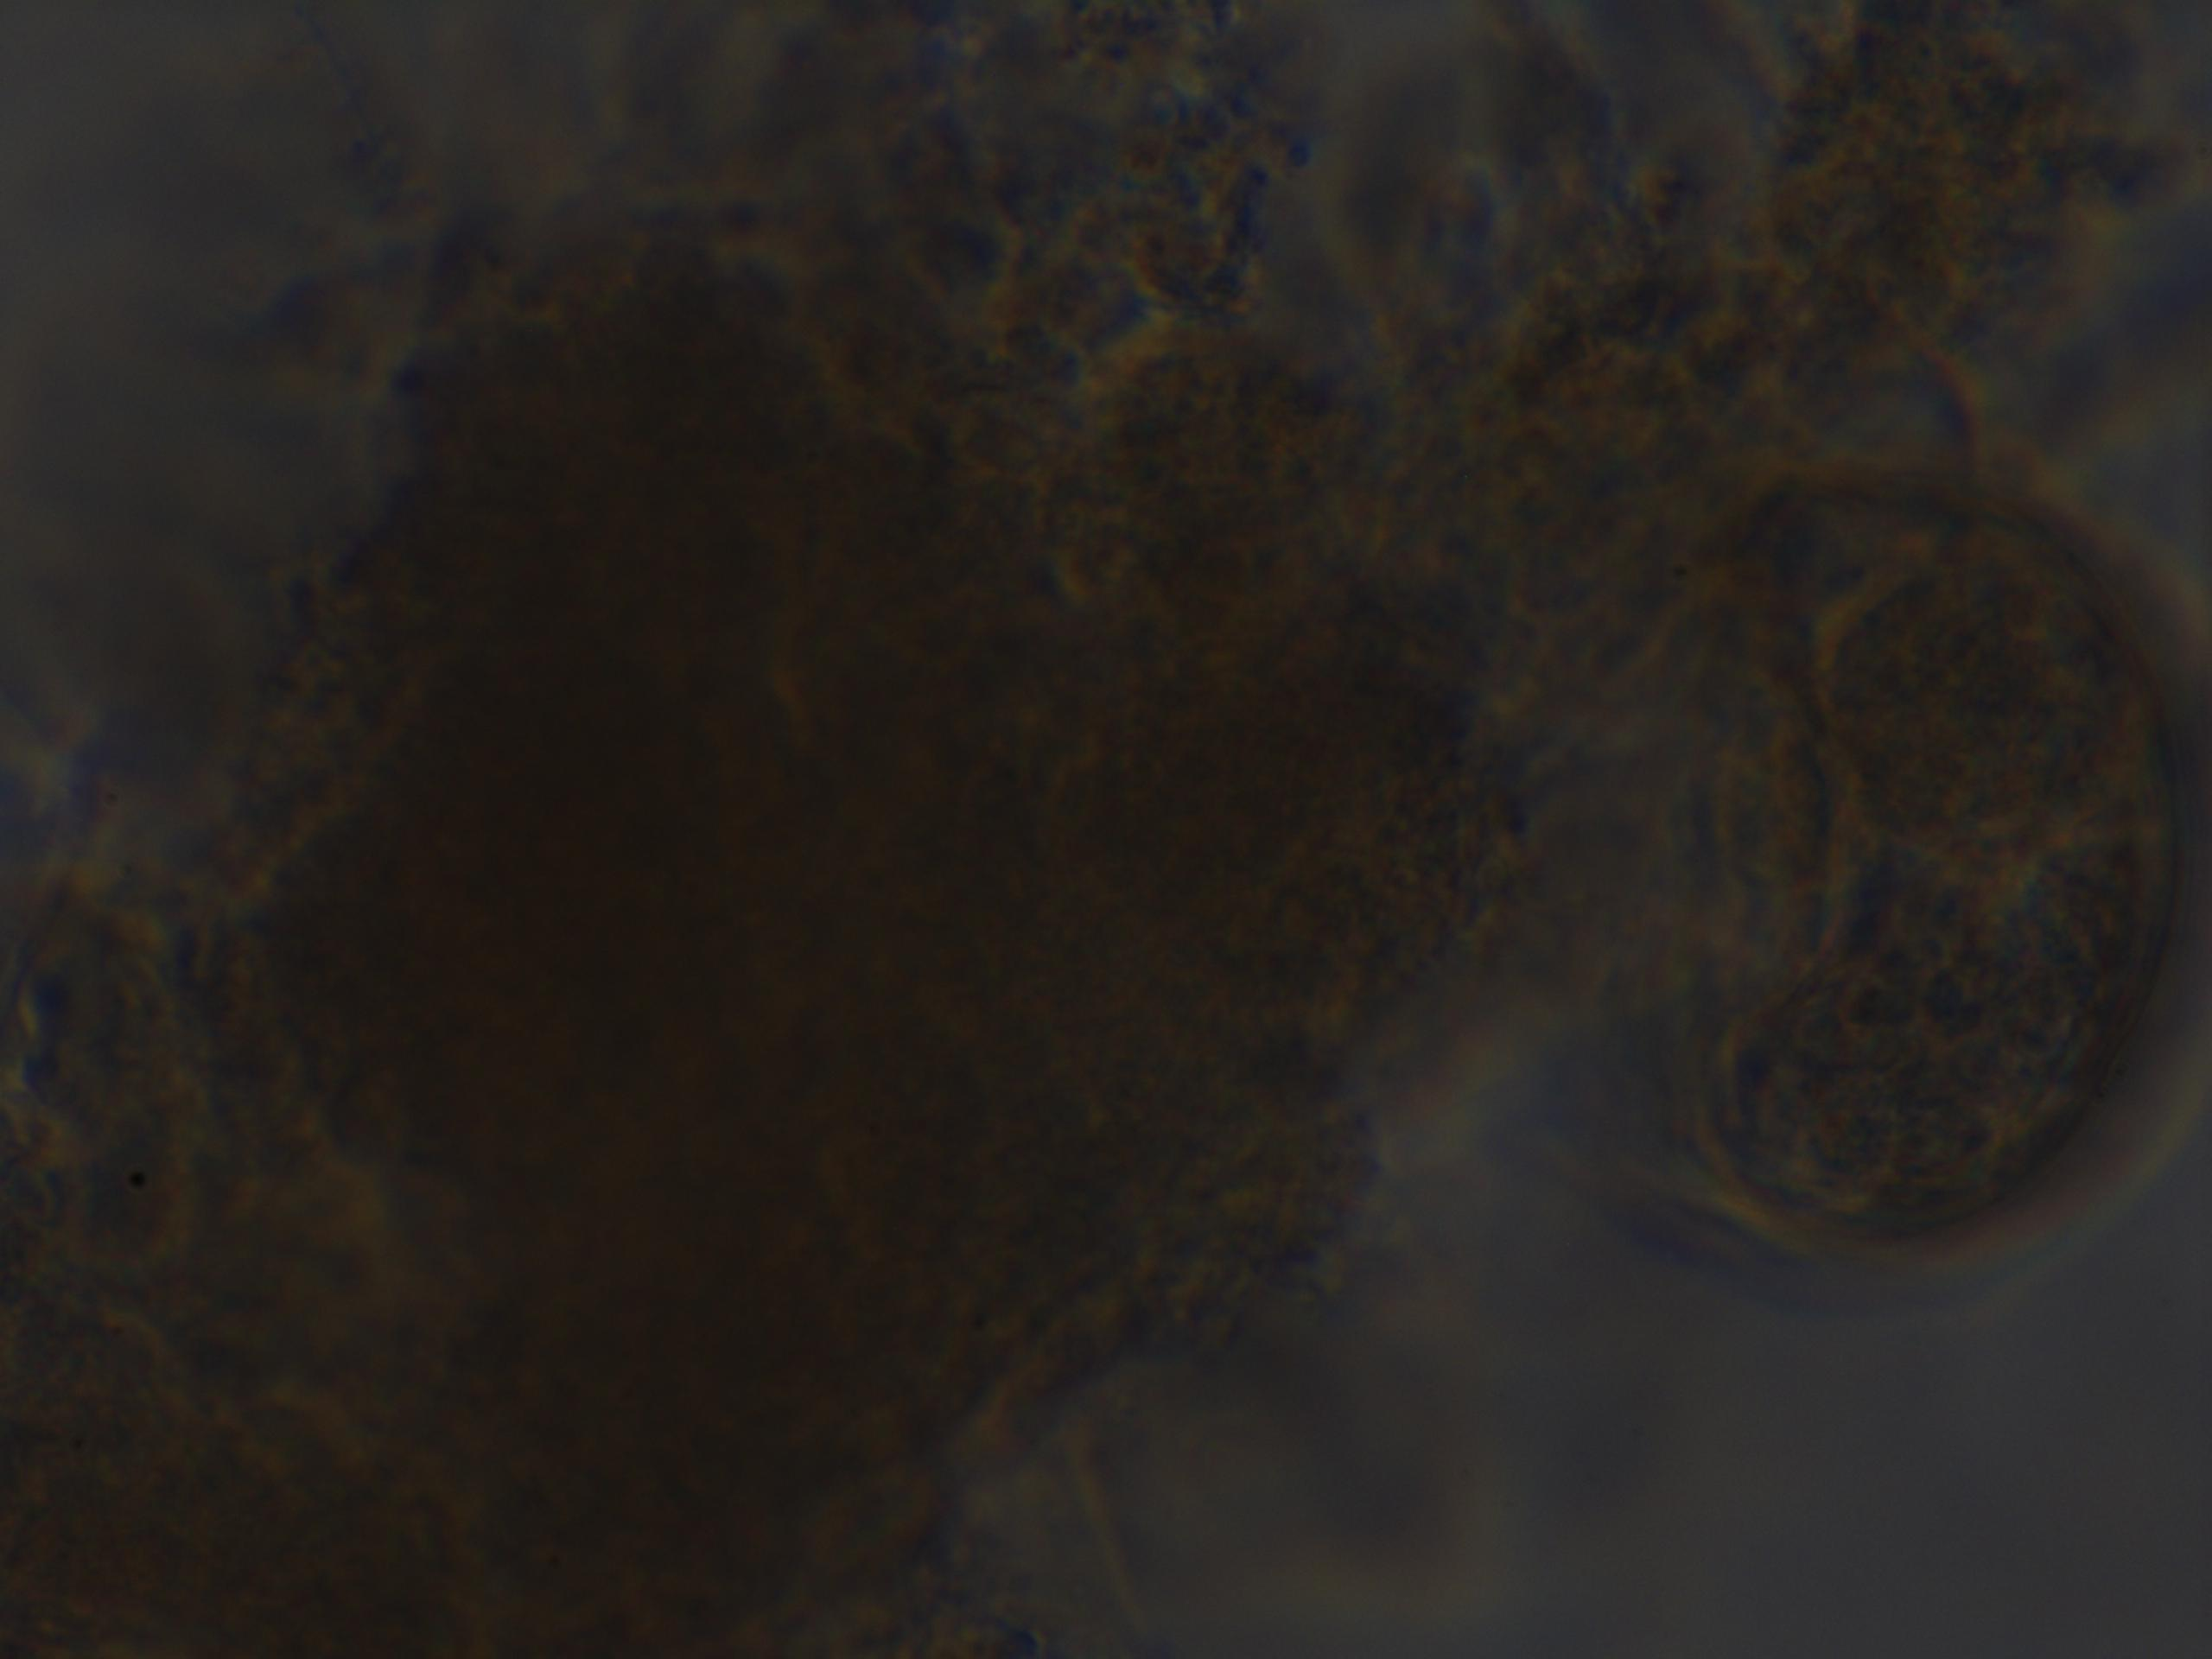protozoa: (1677, 471, 2212, 1295)
